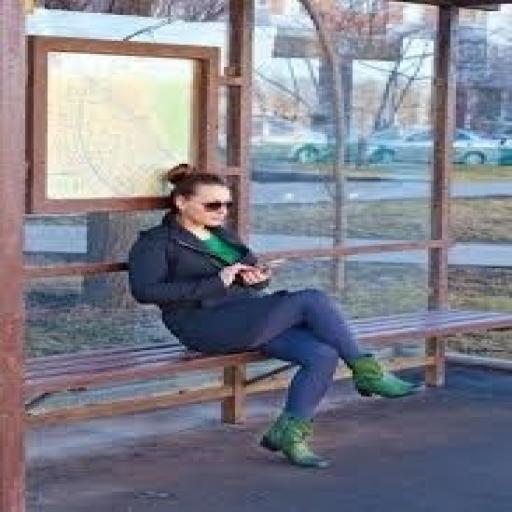sitting: (123, 162, 425, 469)
